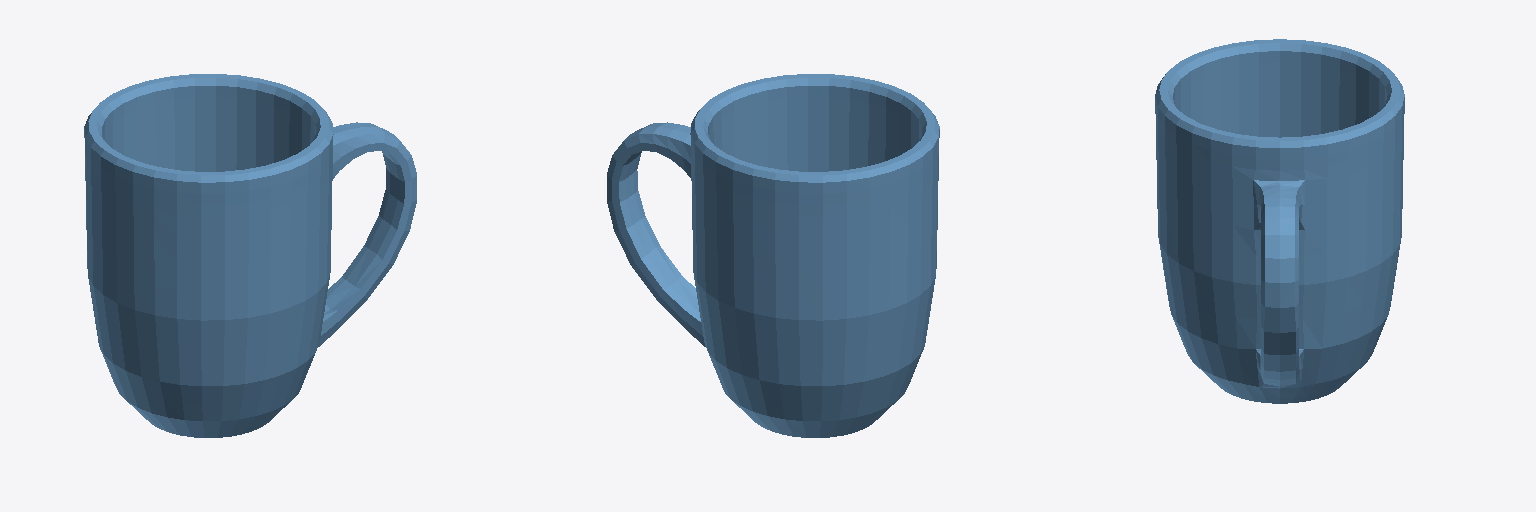
The model's file is mug_empty.obj.
The picture shows the model from 3 angles: view 1: azimuth 30°, elevation 25°; view 2: azimuth 150°, elevation 25°; view 3: azimuth 270°, elevation 25°; orthographic projection.
Parts seen in each view (by area): view 1: mug_empty_Mug_Circle; view 2: mug_empty_Mug_Circle; view 3: mug_empty_Mug_Circle.
Boxes of the visible parts, x1=… form: mug_empty_Mug_Circle: x1=84, y1=74, x2=416, y2=437; mug_empty_Mug_Circle: x1=607, y1=74, x2=939, y2=437; mug_empty_Mug_Circle: x1=1155, y1=39, x2=1404, y2=403.
Bounding box in the file's own units: 0.0331 × 0.0291 × 0.0231.